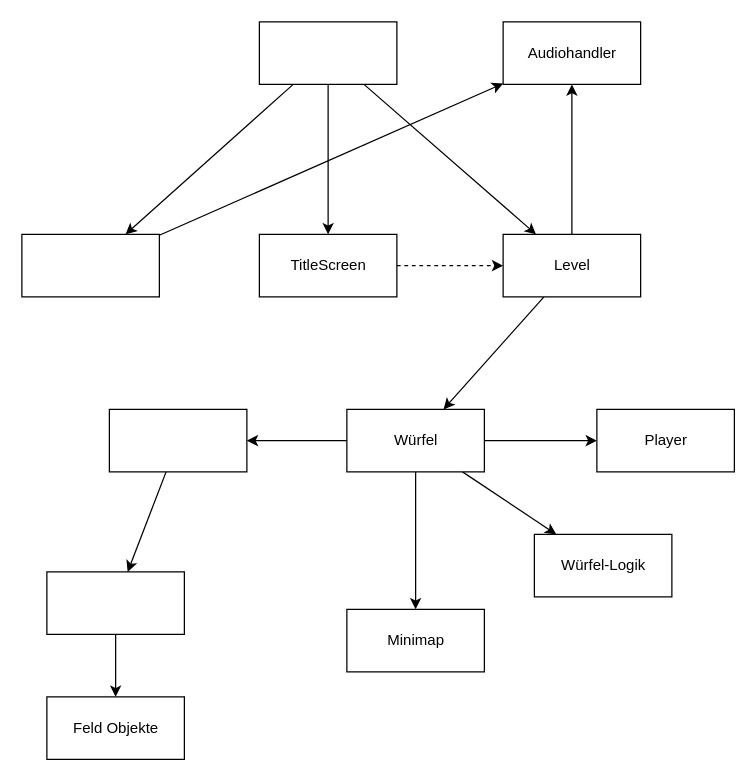
The diagram is 756 pixels wide and 781 high, and some of its shapes have lost their labels. The shapes that lost their labels are listed below. From the top down, each one's centre as x and y in pixels, then its label:
At point 327,52: "Game".
At point 90,265: "LevelSelector".
At point 177,440: "Würfel-Seite".
At point 115,602: "Felder".
